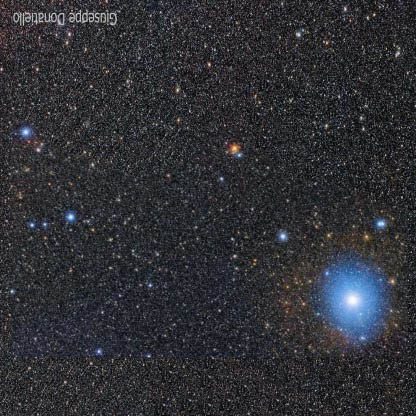Lyra: (309, 254, 395, 347), (57, 205, 85, 232), (10, 118, 39, 143), (369, 212, 398, 235), (269, 226, 293, 252), (225, 140, 250, 162)
